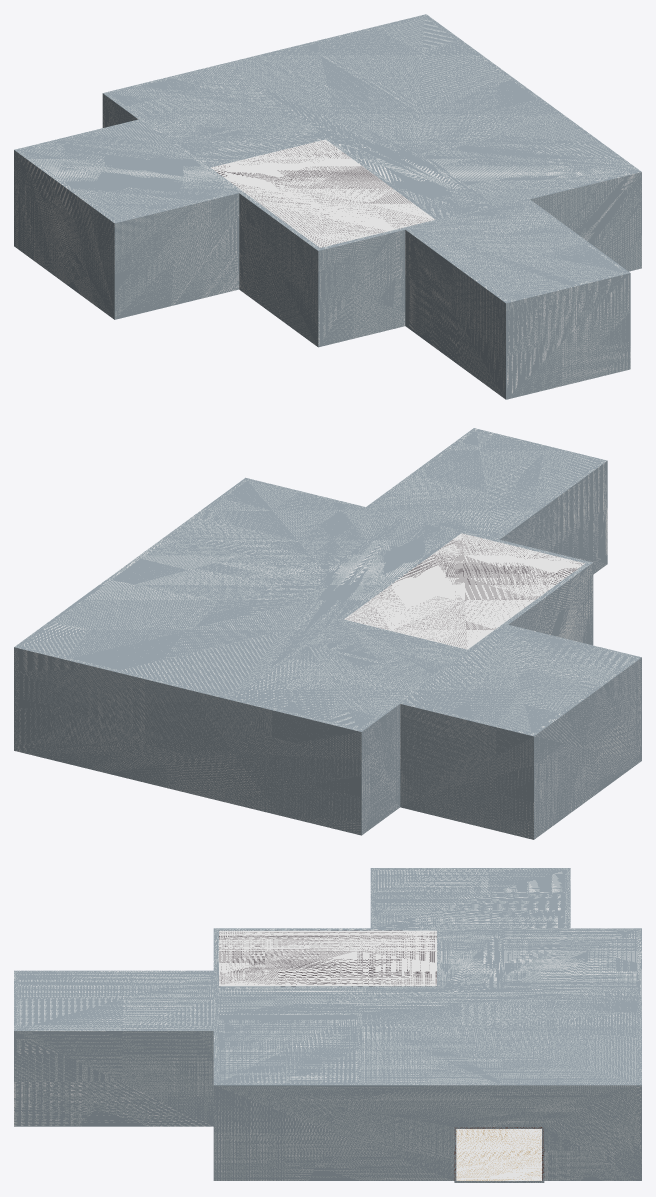
Rendered from Rumah Jabar.fbx.
3 views of the same model, one above another, from view 1: azimuth 30°, elevation 25°; view 2: azimuth 150°, elevation 25°; view 3: azimuth 270°, elevation 25° (orthographic). The views are drawn at different scales.
Parts seen in each view (by area): view 1: Model; view 2: Model; view 3: Model.
Part boxes in pixels (x1=…): Model: x1=14, y1=14, x2=641, y2=399; Model: x1=14, y1=428, x2=641, y2=839; Model: x1=14, y1=868, x2=641, y2=1182.
Bounding box in the file's own units: 18 × 3.78 × 22.
